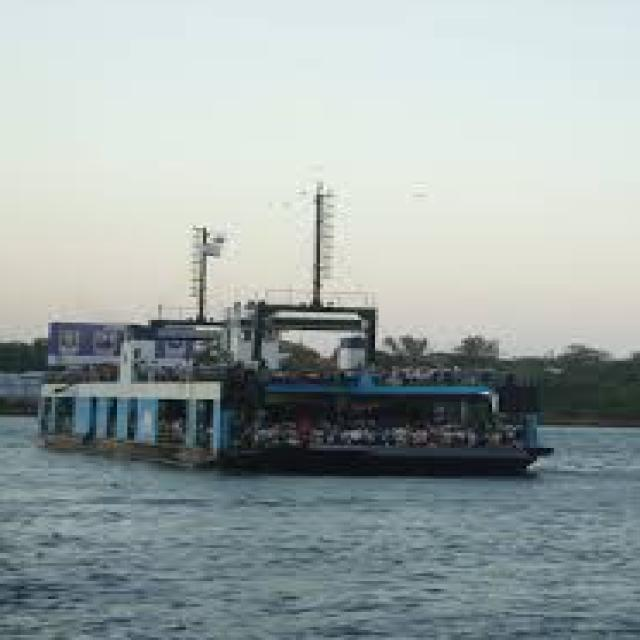passenger ship: (45, 279, 552, 474)
